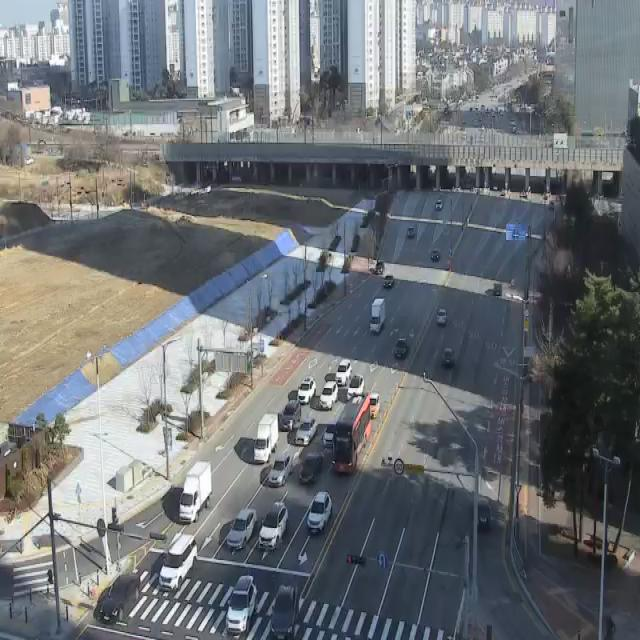Bus: (332, 393, 372, 475)
Car: (160, 535, 198, 590), (99, 574, 142, 622), (226, 576, 257, 634), (270, 584, 300, 640), (258, 502, 289, 548), (226, 508, 257, 550), (308, 492, 333, 531), (297, 452, 324, 488), (268, 454, 294, 487), (295, 417, 318, 446), (280, 399, 300, 430), (297, 377, 317, 403), (320, 382, 338, 410), (335, 359, 352, 385), (322, 424, 340, 448), (348, 375, 364, 399), (394, 338, 409, 360), (368, 393, 380, 418), (443, 346, 454, 368), (437, 308, 447, 326), (431, 247, 442, 263), (375, 261, 385, 275), (406, 226, 416, 240), (384, 274, 394, 287), (434, 199, 444, 211)
Truck: (179, 461, 212, 522), (254, 413, 278, 462), (370, 299, 386, 333)
